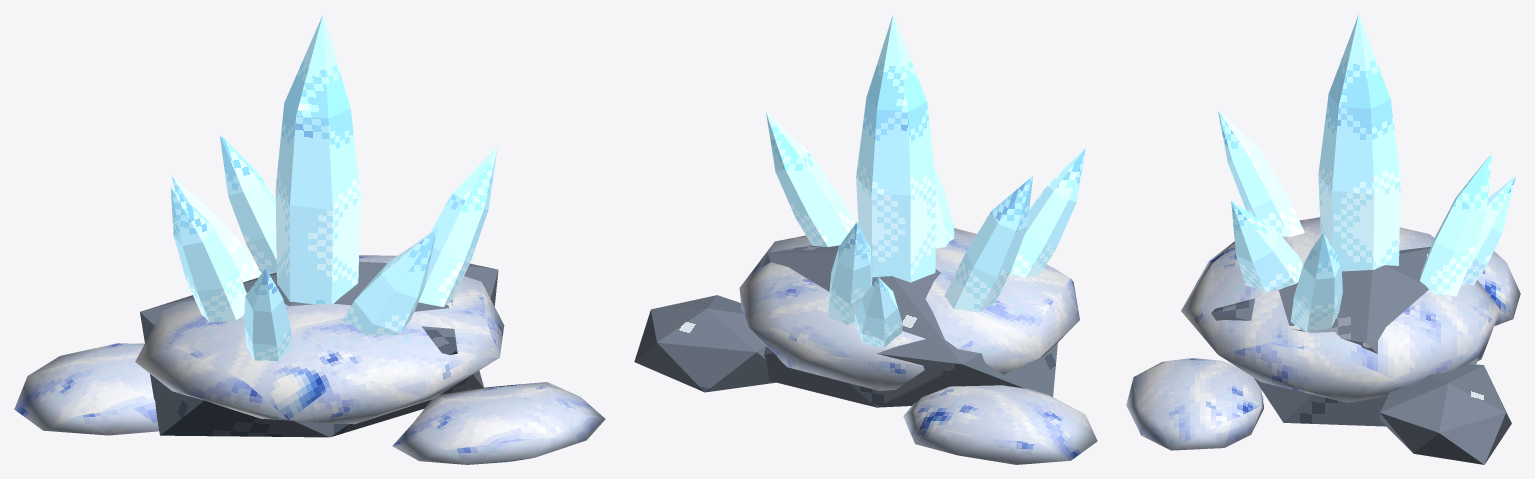
The model's file is glacier_crystals.glb.
The picture shows the model from 3 angles, left to right: view 1: azimuth 30°, elevation 25°; view 2: azimuth 150°, elevation 25°; view 3: azimuth 270°, elevation 25°; orthographic projection. The views are drawn at different scales.
Parts seen in each view (by area): view 1: Snow, Crystals, Foot; view 2: Crystals, Snow, Foot; view 3: Snow, Crystals, Foot.
Boxes of the visible parts, x1,y1,x2,y2 form: Snow: (14, 255, 605, 464); Crystals: (170, 14, 497, 361); Foot: (140, 261, 498, 437); Crystals: (766, 14, 1085, 347); Snow: (739, 228, 1097, 464); Foot: (634, 244, 1057, 407); Snow: (1126, 217, 1520, 450); Crystals: (1218, 14, 1515, 332); Foot: (1211, 246, 1511, 464).
Bounding box in the file's own units: 2.49 × 1.92 × 1.94.
Materials: 3 (3 with a texture image).
